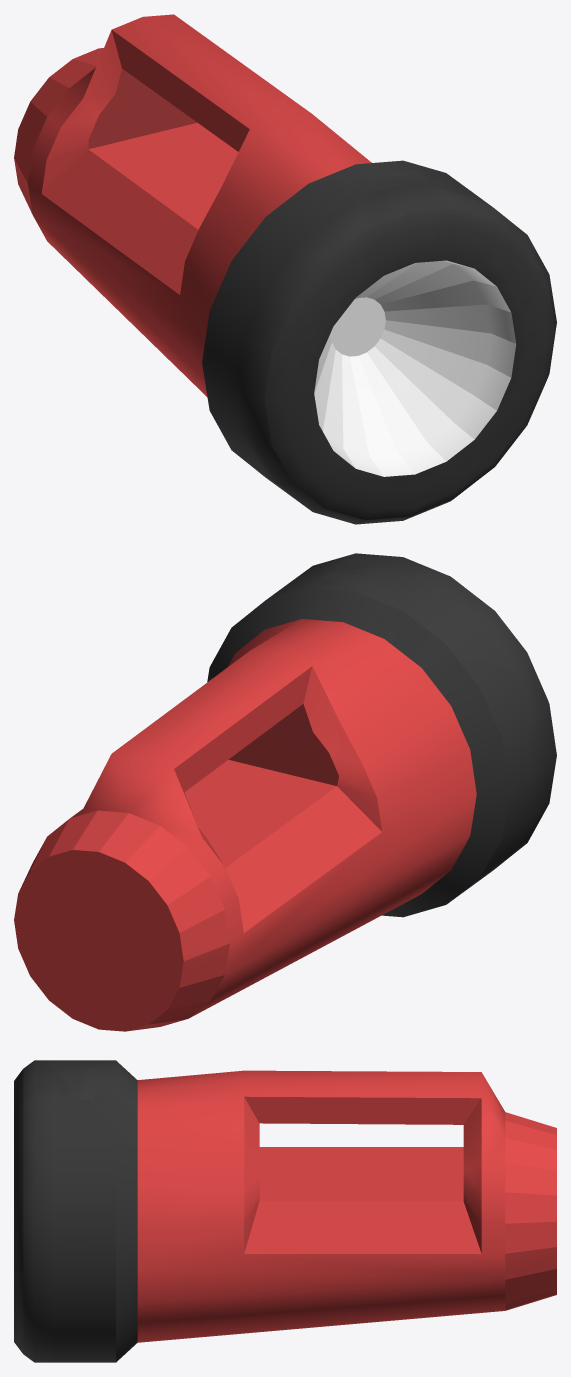
File: Item_Light.fbx
The picture shows the model from 3 angles, top to bottom: view 1: azimuth 30°, elevation 25°; view 2: azimuth 150°, elevation 25°; view 3: azimuth 270°, elevation 25°; orthographic projection. The views are drawn at different scales.
Parts seen in each view (by area): view 1: pCylinder3; view 2: pCylinder3; view 3: pCylinder3.
Part boxes in pixels (x1,y1,x2,y2): pCylinder3: [14, 14, 556, 524]; pCylinder3: [14, 553, 556, 1031]; pCylinder3: [14, 1060, 556, 1362].
Size of the model in its own units: 0.3884 by 0.3884 by 0.6921.
Materials: 1 (1 with a texture image).
